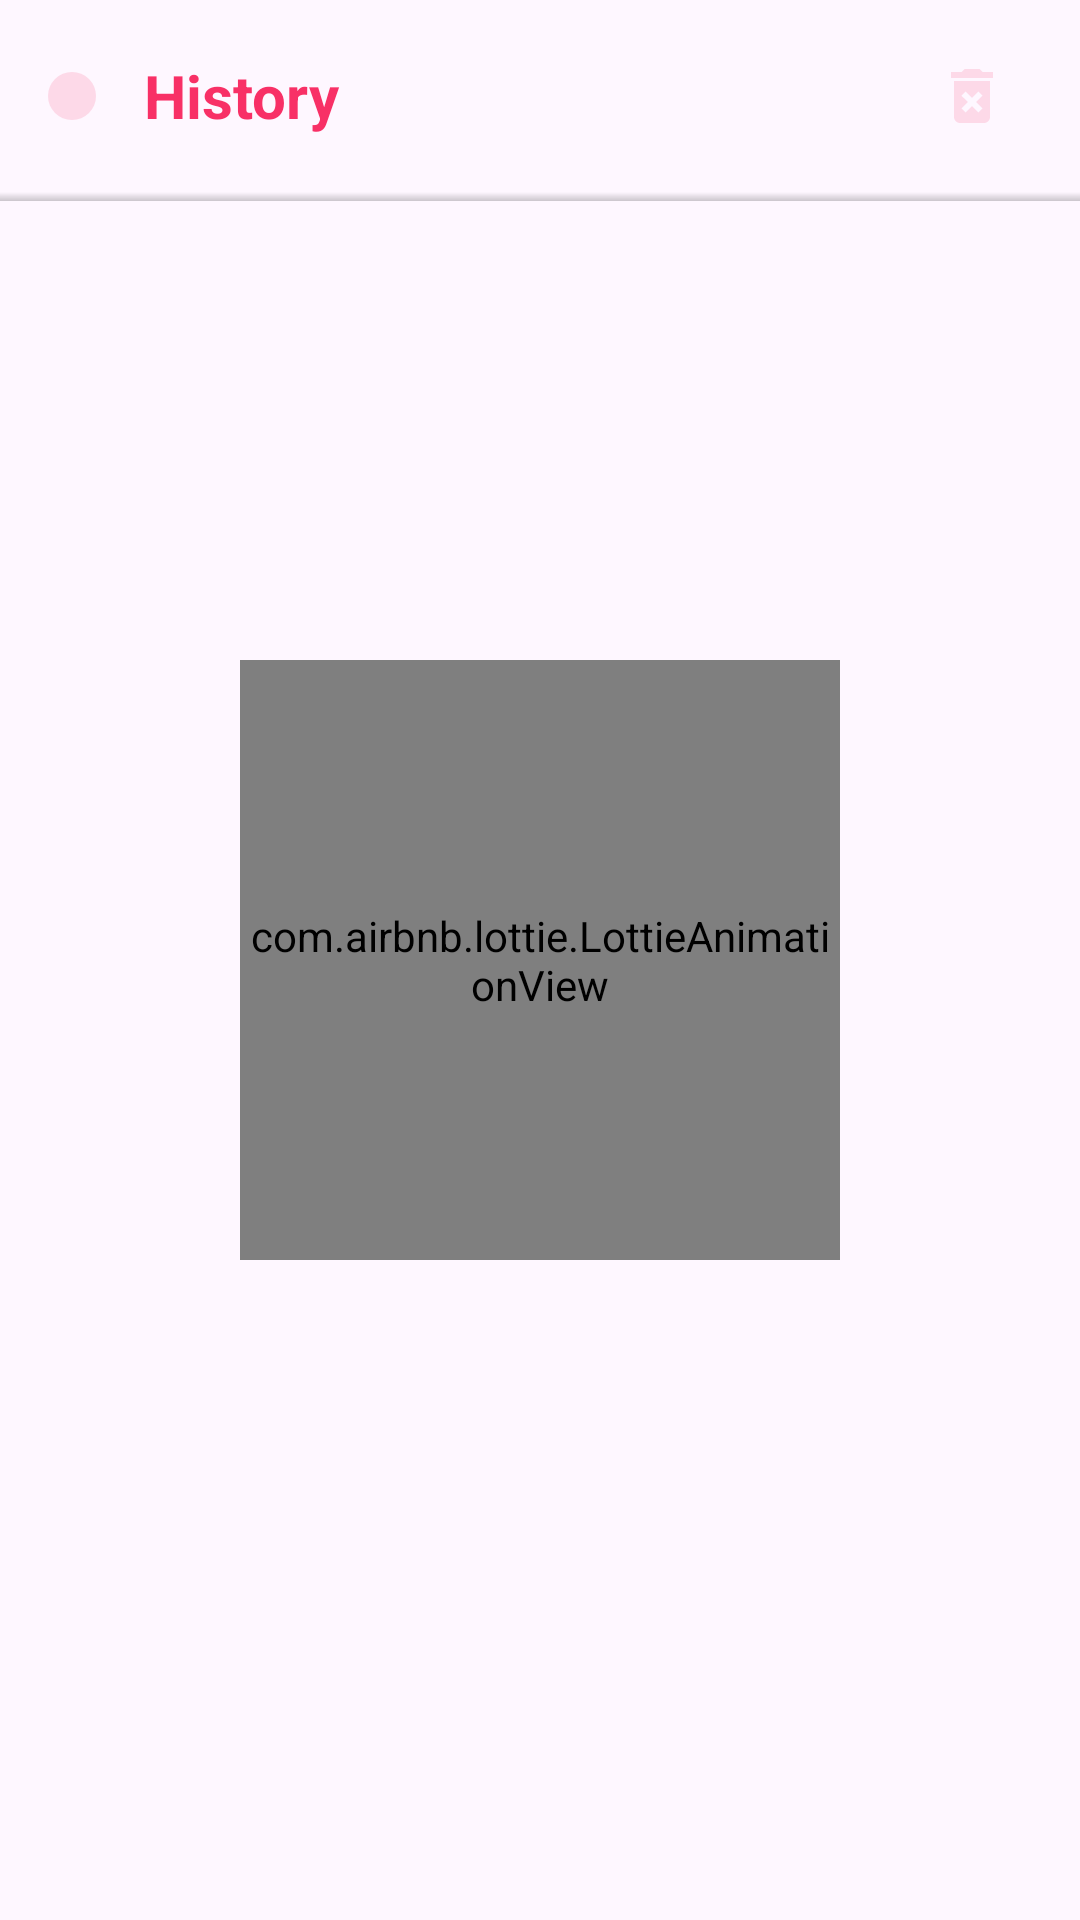

Icons on this 1080 x 1920 Android screen, each with the point to tap as point (x, y):
delete: point (972, 96)
